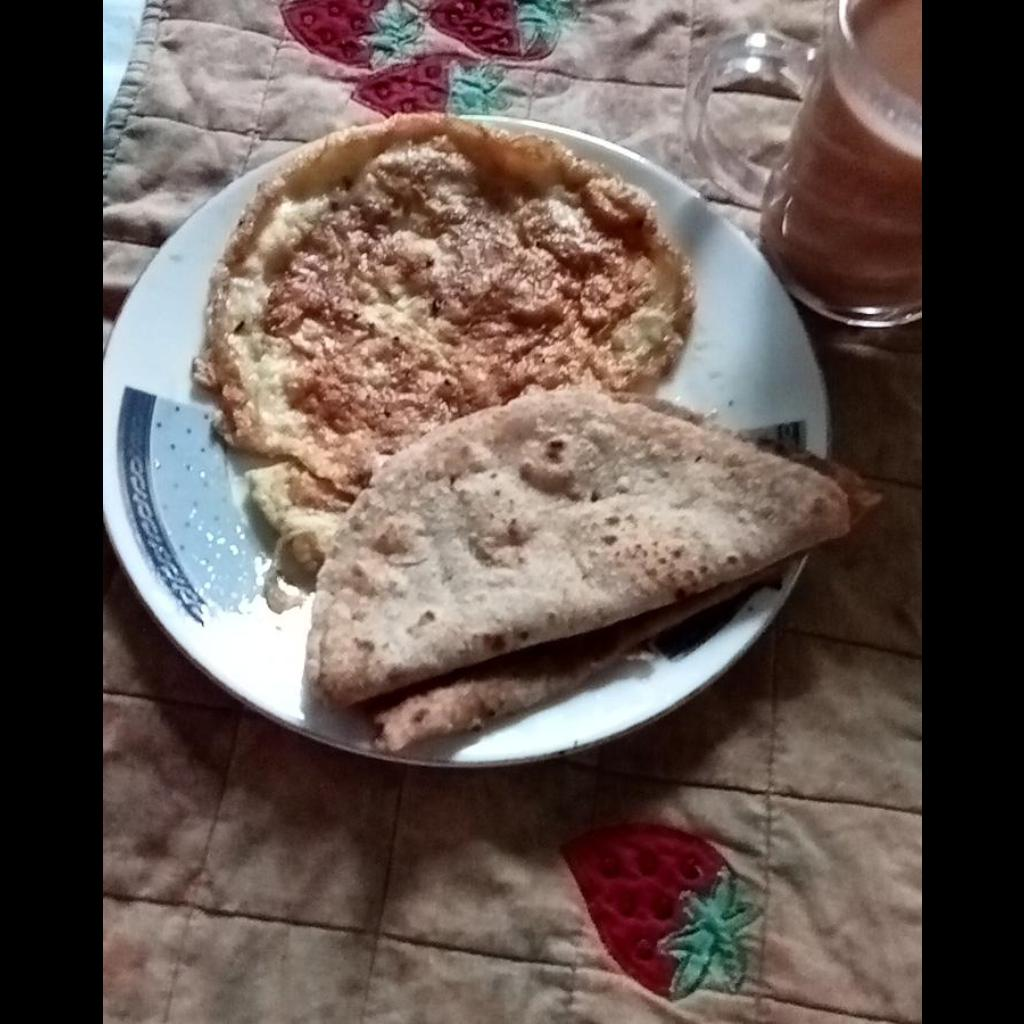egg-poached: (180, 119, 699, 584)
ruti: (301, 389, 891, 750)
